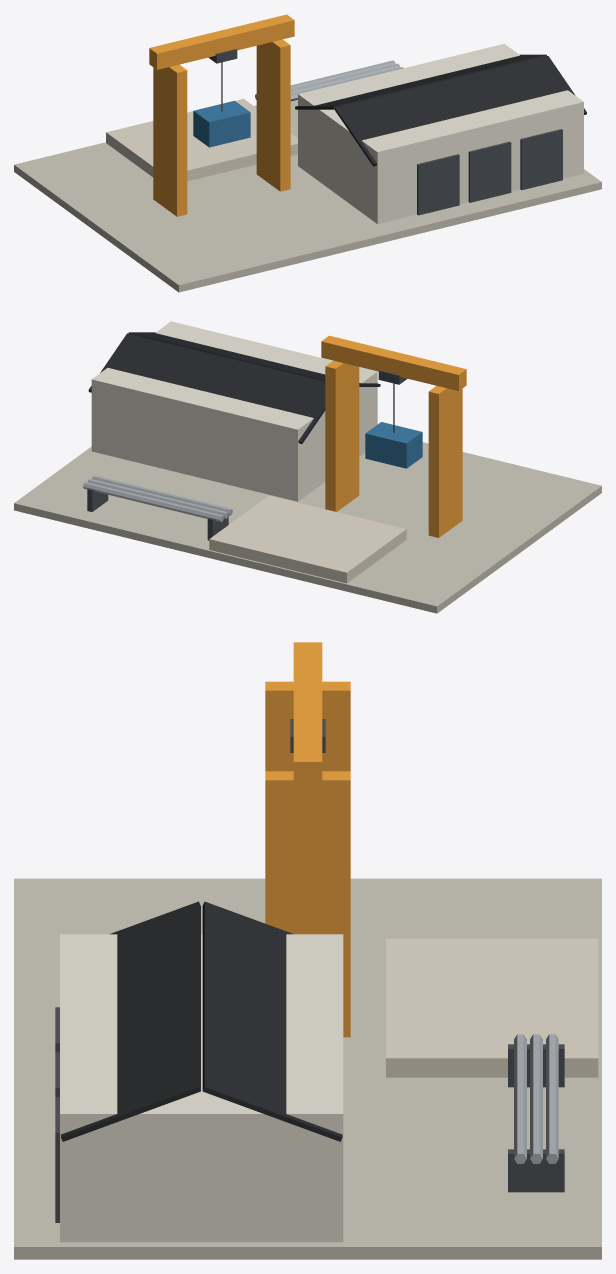
Rendered from building.shipyard.glb.
3 renders of one model, top to bottom at view 1: azimuth 30°, elevation 25°; view 2: azimuth 150°, elevation 25°; view 3: azimuth 270°, elevation 25°, orthographic. The views are drawn at different scales.
Visible parts, largest first — view 1: building.shipyard; view 2: building.shipyard; view 3: building.shipyard.
Part boxes in pixels (<box>): building.shipyard: <box>14,14,601,292</box>; building.shipyard: <box>14,321,601,613</box>; building.shipyard: <box>14,642,601,1259</box>.
Bounding box in the file's own units: 24.6 × 9.3 × 16.6.
